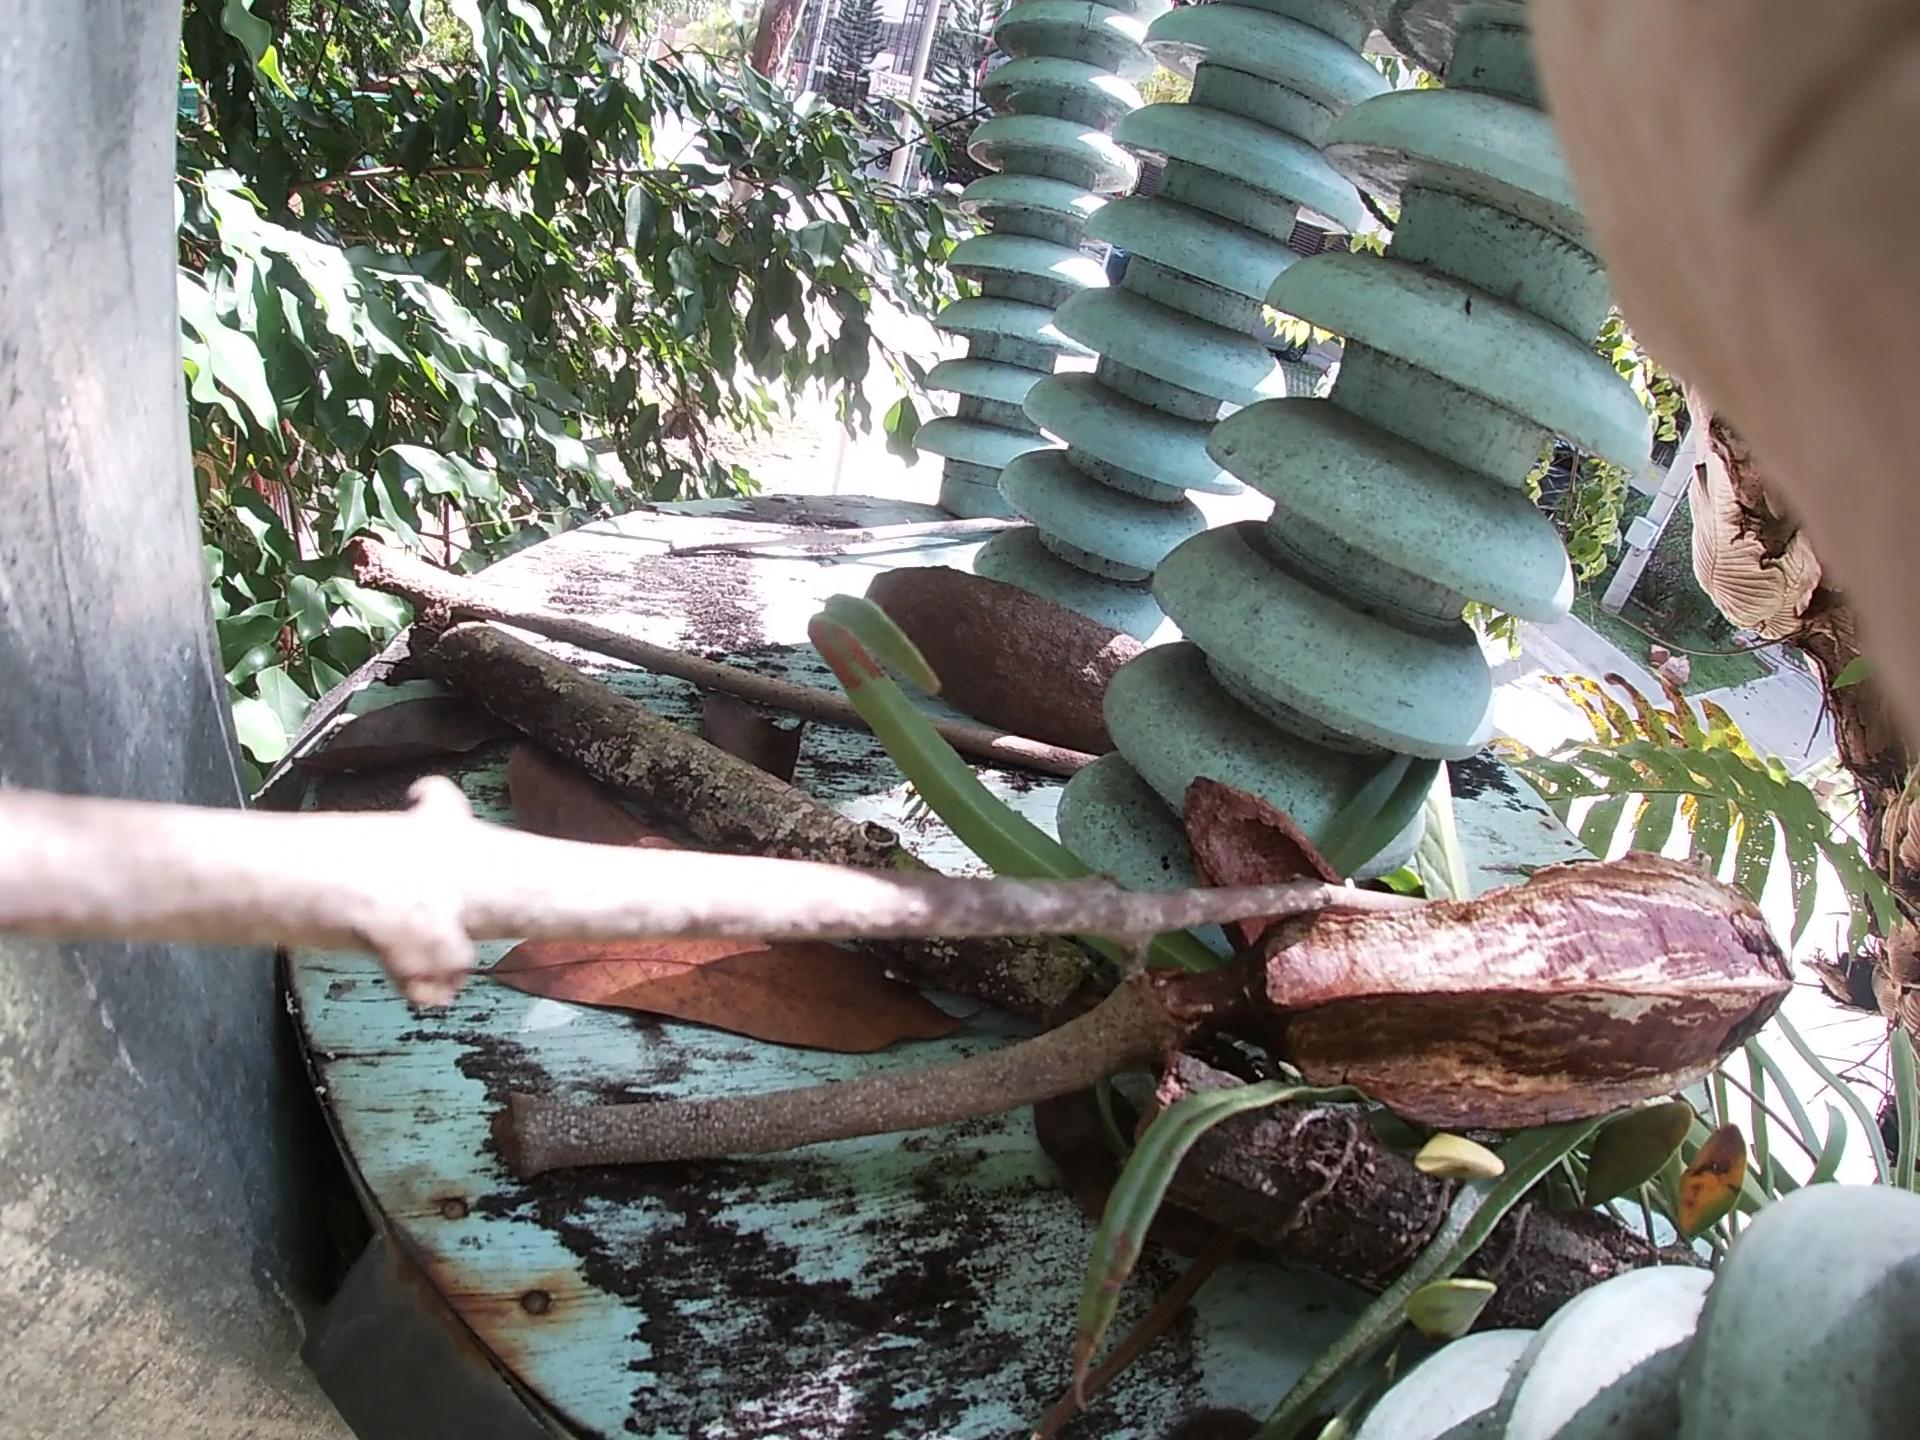branch with leaves: (478, 629, 1557, 1265)
leaf: (434, 694, 874, 991)
mahogany fruit: (1262, 815, 1761, 1110), (865, 507, 1209, 771), (1141, 735, 1388, 976)
tree branch: (17, 750, 1483, 961), (333, 551, 1037, 765), (531, 982, 1181, 1104)
